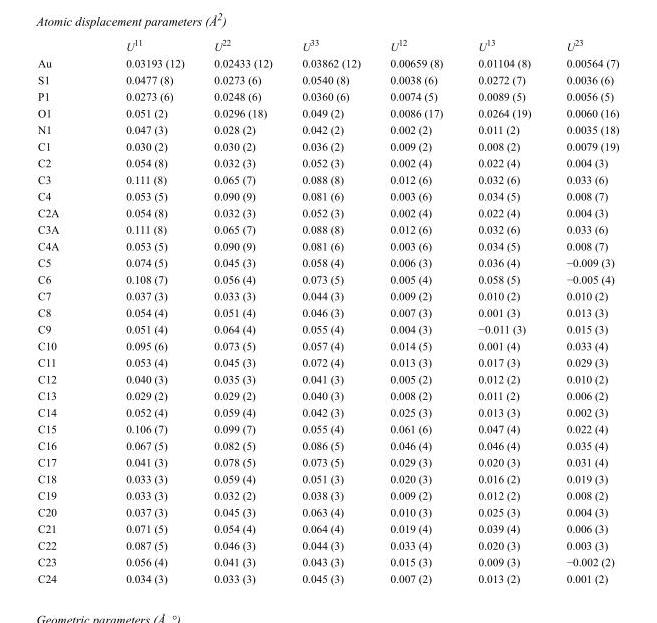table: (37, 37, 618, 584)
table column: (91, 37, 198, 584), (198, 37, 286, 584), (286, 37, 374, 584), (460, 37, 548, 584), (374, 37, 460, 584), (548, 37, 618, 584), (37, 37, 91, 584)
table column header: (37, 37, 618, 54)
table row: (37, 37, 618, 54), (37, 54, 618, 71), (37, 87, 618, 104), (37, 120, 618, 137), (37, 137, 618, 154), (37, 170, 618, 187), (37, 187, 618, 204), (37, 220, 618, 237), (37, 253, 618, 270), (37, 270, 618, 287), (37, 303, 618, 320), (37, 320, 618, 337), (37, 353, 618, 370), (37, 386, 618, 403), (37, 403, 618, 420), (37, 436, 618, 453), (37, 453, 618, 470), (37, 486, 618, 503), (37, 519, 618, 536), (37, 536, 618, 553), (37, 71, 618, 87), (37, 104, 618, 120), (37, 154, 618, 170), (37, 204, 618, 220), (37, 237, 618, 253), (37, 287, 618, 303), (37, 337, 618, 353), (37, 370, 618, 386), (37, 420, 618, 436), (37, 470, 618, 486), (37, 503, 618, 519), (37, 553, 618, 569), (37, 569, 618, 584)
